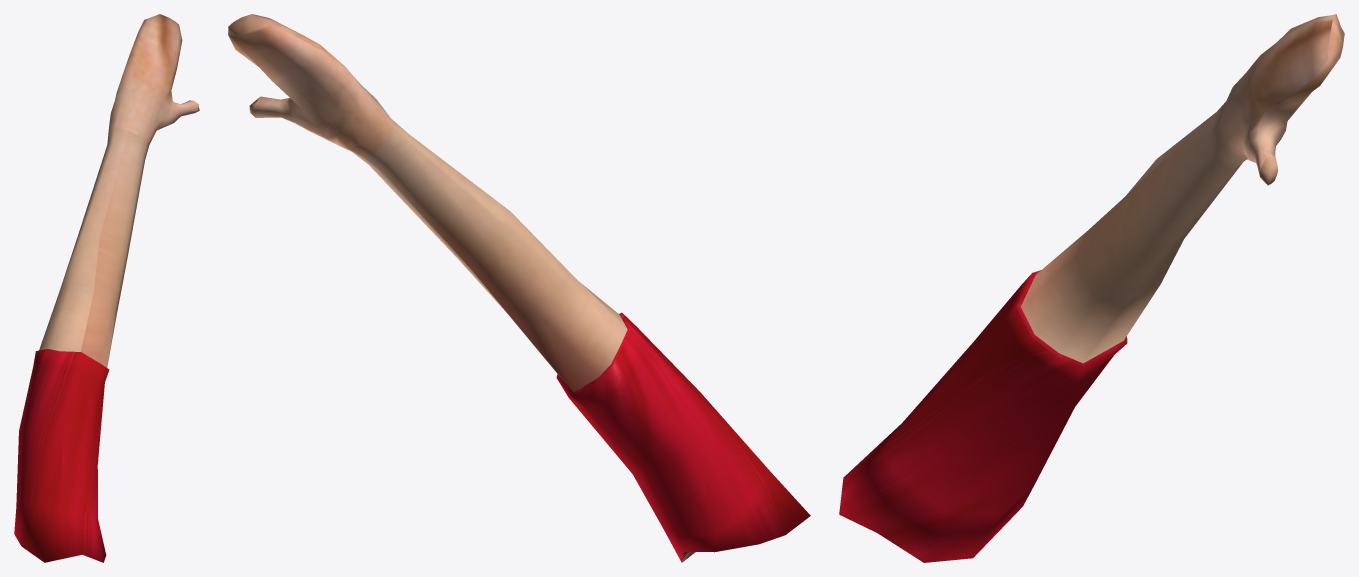
The model's file is BrazoManoli.fbx.
3 renders of one model, left to right at view 1: azimuth 30°, elevation 25°; view 2: azimuth 150°, elevation 25°; view 3: azimuth 270°, elevation 25°, orthographic. The views are drawn at different scales.
Parts seen in each view (by area): view 1: Brazo; view 2: Brazo; view 3: Brazo.
Boxes of the visible parts, bbox=[...] form: Brazo: bbox=[14, 14, 199, 562]; Brazo: bbox=[228, 14, 810, 562]; Brazo: bbox=[839, 14, 1344, 562].
Size of the model in its own units: 37.52 by 53.75 by 35.42.
